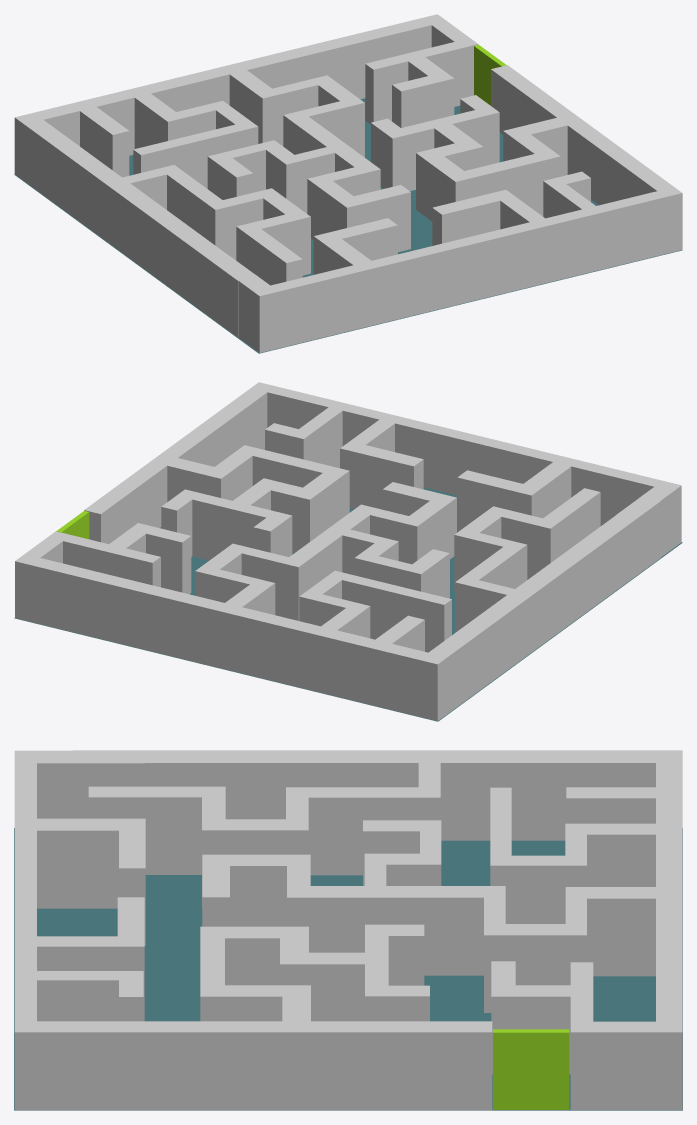
File: maze_level_1.glb
The picture shows the model from 3 angles, top to bottom: view 1: azimuth 30°, elevation 25°; view 2: azimuth 150°, elevation 25°; view 3: azimuth 270°, elevation 25°; orthographic projection. The views are drawn at different scales.
Parts seen in each view (by area): view 1: Cube, Cube.001, Plane, Cube.002; view 2: Cube, Cube.001, Plane, Cube.002; view 3: Cube, Cube.001, Plane, Cube.002.
Part boxes in pixels (box(x1,y1,x2,y2)): Cube: box(14, 14, 478, 337); Cube.001: box(236, 65, 682, 352); Plane: box(14, 98, 682, 353); Cube.002: box(474, 45, 506, 105); Cube: box(15, 482, 660, 721); Cube.001: box(84, 382, 681, 560); Plane: box(14, 487, 682, 721); Cube.002: box(56, 511, 89, 539); Cube: box(72, 750, 682, 1109); Cube.001: box(14, 750, 492, 1110); Plane: box(14, 828, 682, 1110); Cube.002: box(493, 1029, 569, 1109).
Size of the model in its own units: 15.97 by 2.06 by 15.97.
